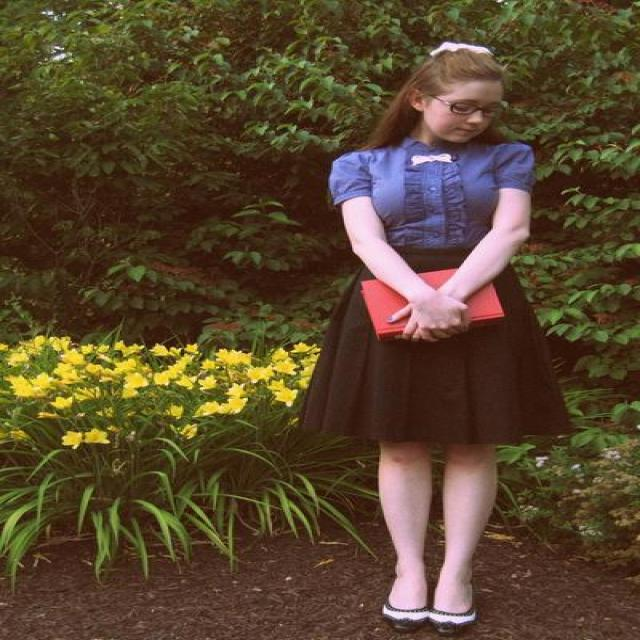bag: (362, 269, 502, 338)
shirt: (328, 143, 533, 261)
skirt: (288, 246, 584, 459)
